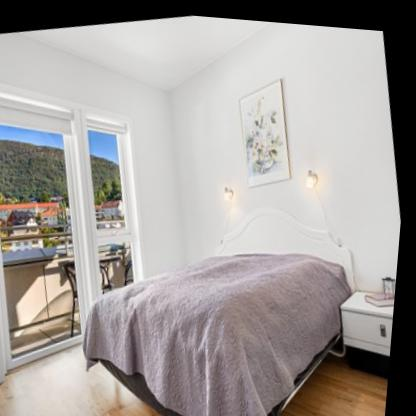Frame: (238, 75, 294, 183)
Nightstand: (344, 284, 399, 359)
Window: (0, 80, 156, 375)
